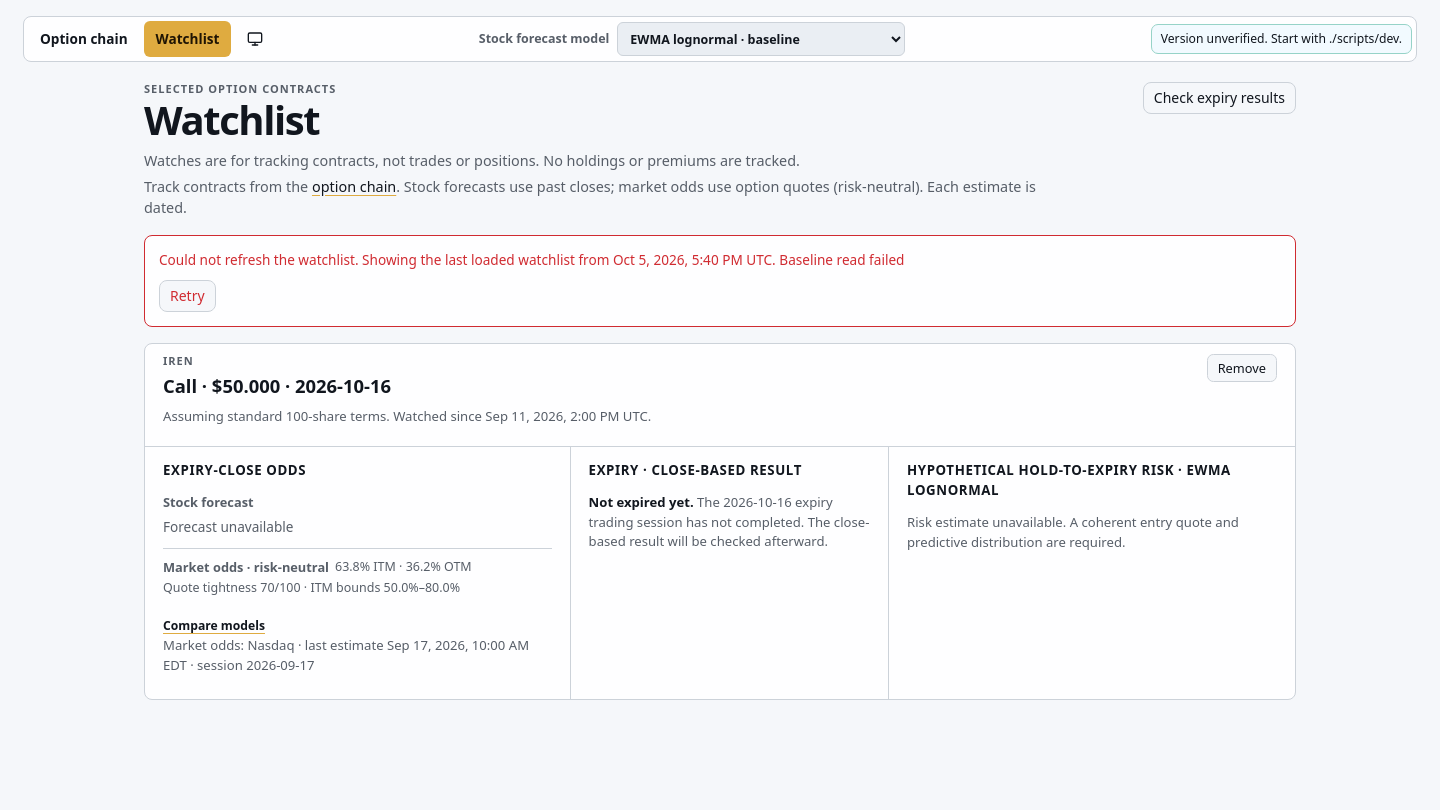
Test: ignores an obsolete stale retry failure after a new model loads
This screenshot has width=1440, height=810.
Check: the button with aria-label "Remove IREN" is shown, box left=1207, top=354, right=1277, bottom=382
Check: the 2nd message is shown, box left=144, top=235, right=1296, bottom=328
Click the button "Retry".
click(187, 296)  # box left=159, top=280, right=216, bottom=312
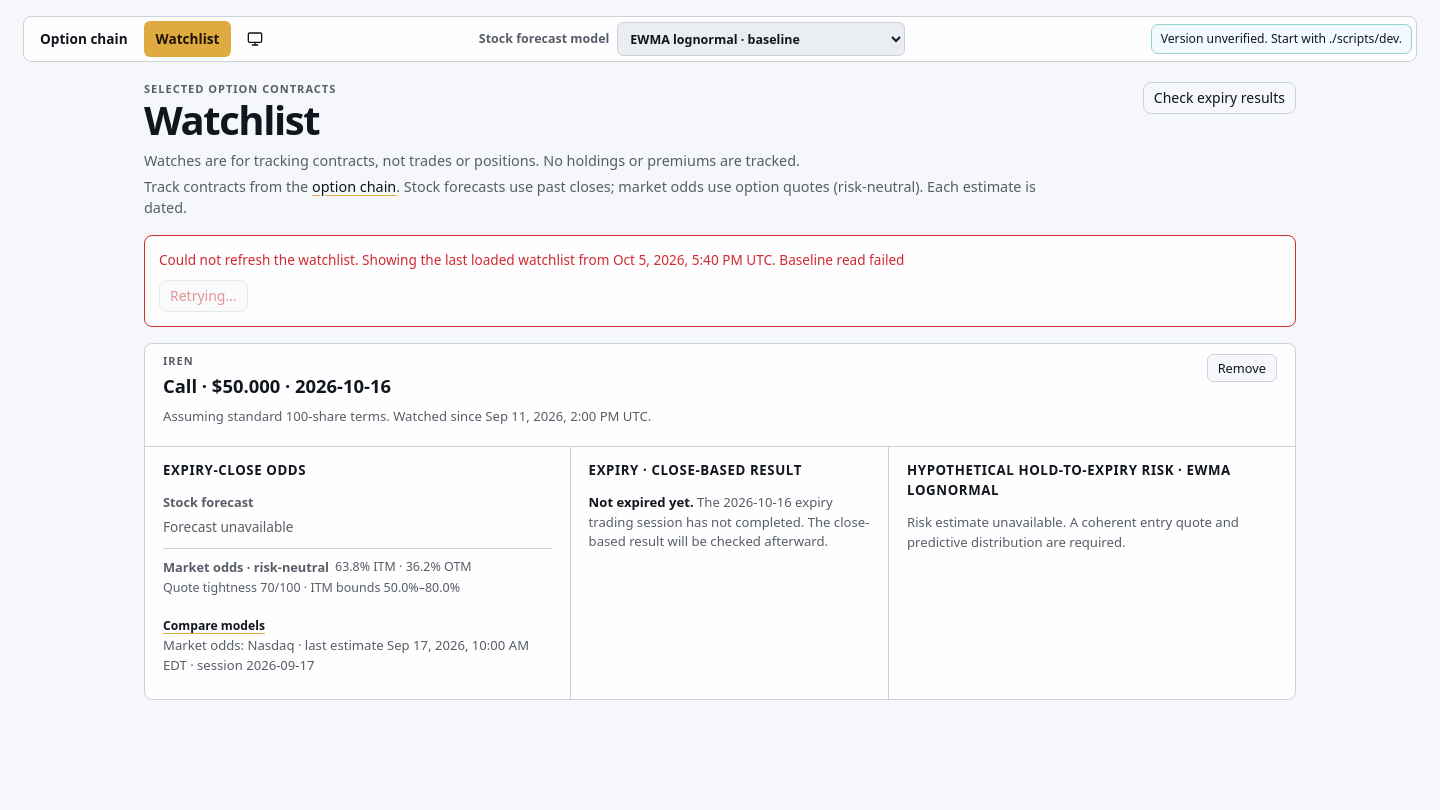
Select "Student-t EWMA · experimental" in the dropdown labelled "Stock forecast model" at (761, 39), box left=617, top=22, right=905, bottom=56
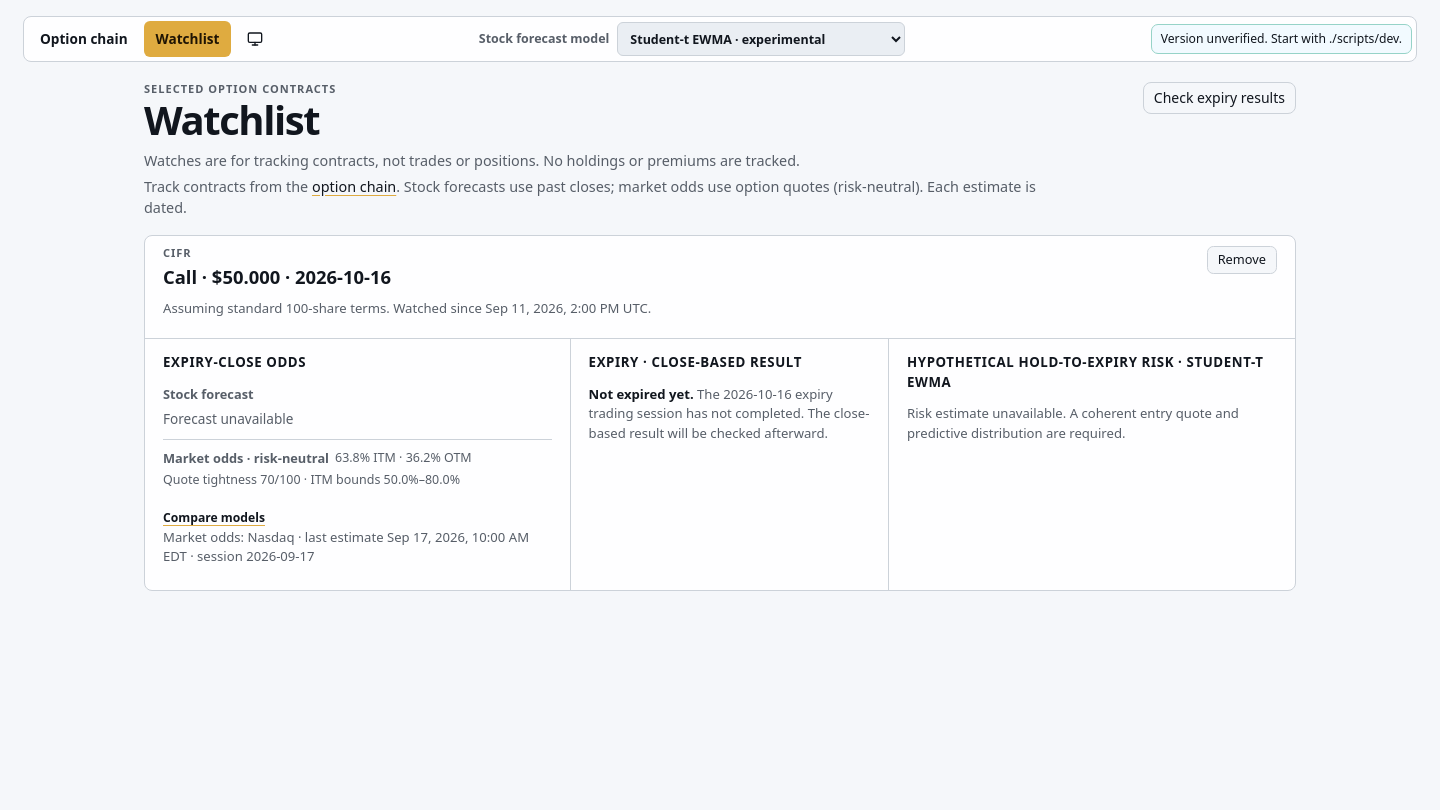
Check: the button with aria-label "Remove CIFR" is shown, box left=1207, top=246, right=1277, bottom=274
